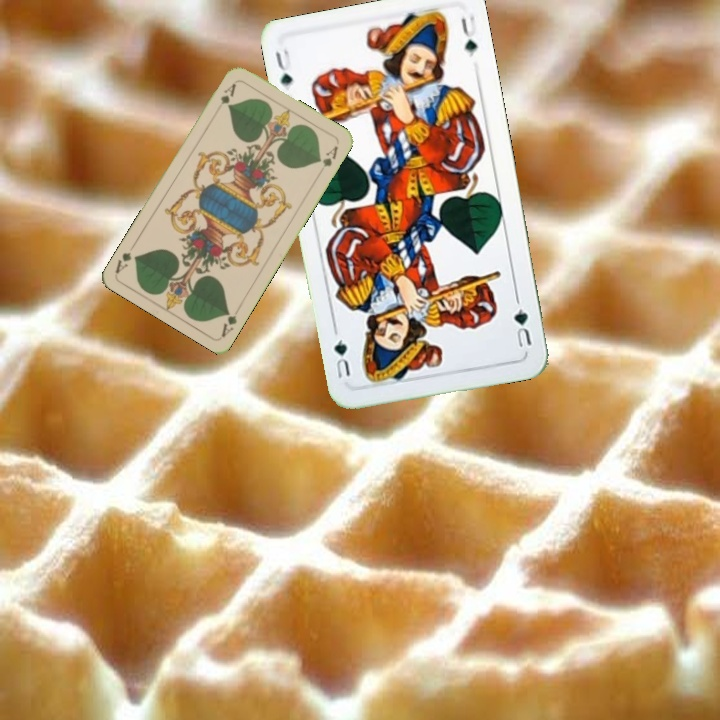GA: (211, 79, 239, 115), (217, 306, 239, 340)
GU: (509, 304, 534, 350), (271, 44, 296, 89)
